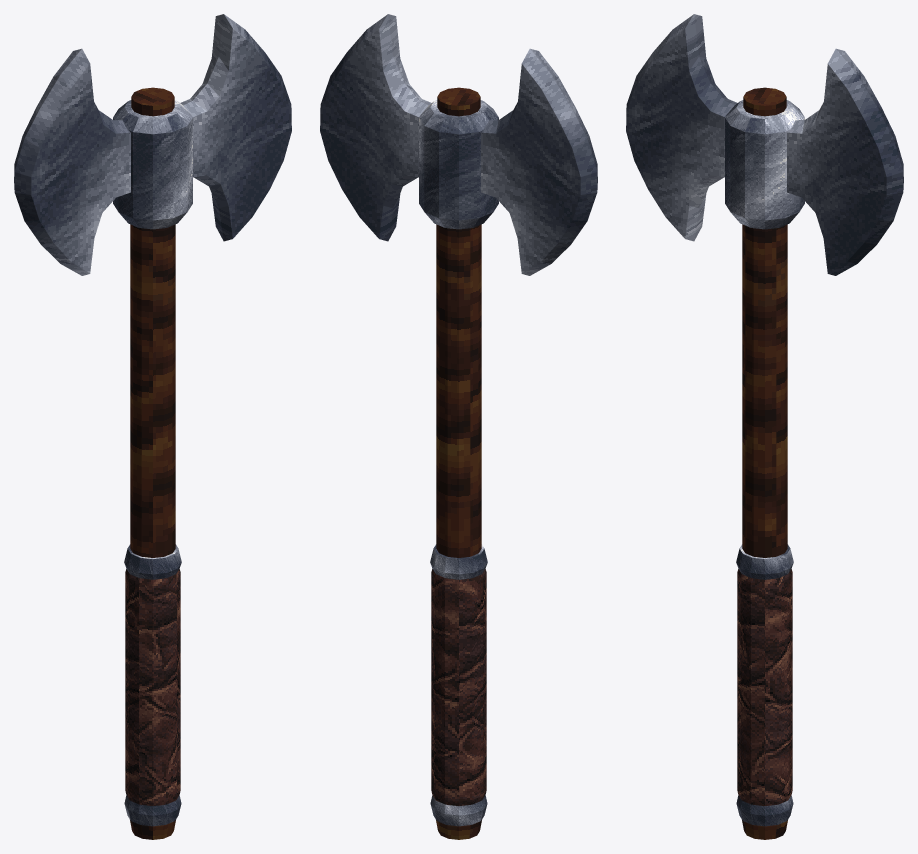
The model's file is machado_grande.glb.
The picture shows the model from 3 angles, left to right: view 1: azimuth 30°, elevation 25°; view 2: azimuth 150°, elevation 25°; view 3: azimuth 330°, elevation 25°; orthographic projection.
Parts seen in each view (by area): view 1: Cabo de madeira, Lâmina esquerda, Lâmina direita, Empunhadura de couro, Encaixe central do machado, Anel superior, Anel inferior; view 2: Cabo de madeira, Lâmina esquerda, Lâmina direita, Empunhadura de couro, Encaixe central do machado, Anel superior, Anel inferior; view 3: Cabo de madeira, Lâmina direita, Lâmina esquerda, Empunhadura de couro, Encaixe central do machado, Anel superior, Anel inferior.
Boxes of the visible parts, bbox=[...] form: Cabo de madeira: bbox=[130, 87, 175, 839]; Lâmina esquerda: bbox=[14, 48, 130, 275]; Lâmina direita: bbox=[180, 14, 291, 241]; Empunhadura de couro: bbox=[125, 569, 180, 805]; Encaixe central do machado: bbox=[113, 100, 192, 229]; Anel superior: bbox=[124, 544, 181, 579]; Anel inferior: bbox=[124, 795, 181, 826]; Cabo de madeira: bbox=[436, 87, 481, 839]; Lâmina esquerda: bbox=[481, 48, 597, 275]; Lâmina direita: bbox=[320, 14, 431, 241]; Empunhadura de couro: bbox=[431, 569, 486, 805]; Encaixe central do machado: bbox=[419, 100, 498, 229]; Anel superior: bbox=[430, 544, 487, 579]; Anel inferior: bbox=[430, 795, 487, 826]; Cabo de madeira: bbox=[742, 87, 787, 839]; Lâmina direita: bbox=[787, 48, 903, 275]; Lâmina esquerda: bbox=[626, 14, 737, 241]; Empunhadura de couro: bbox=[737, 569, 792, 805]; Encaixe central do machado: bbox=[725, 100, 804, 229]; Anel superior: bbox=[736, 544, 793, 579]; Anel inferior: bbox=[736, 795, 793, 826].
Bounding box in the file's own units: 0.84 × 2.32 × 0.21.
Materials: 3 (3 with a texture image).
